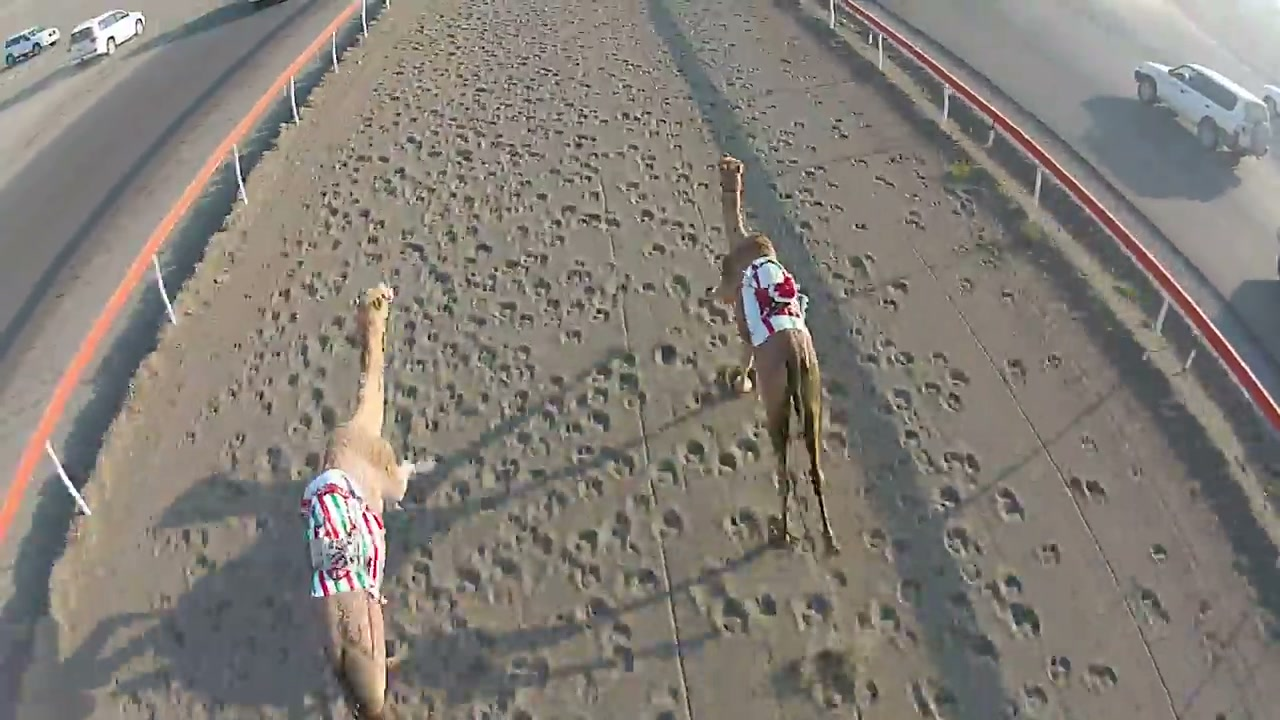animal_foot_print: (52, 0, 1148, 719), (777, 647, 877, 716), (691, 577, 767, 633), (983, 573, 1042, 637), (723, 507, 768, 545), (1066, 475, 1107, 503), (1082, 662, 1119, 692), (995, 486, 1025, 521)
